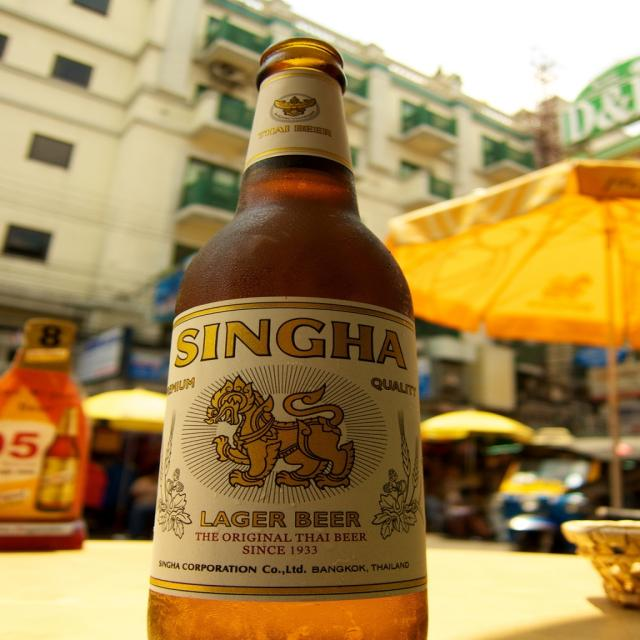singha: (150, 303, 429, 601)
